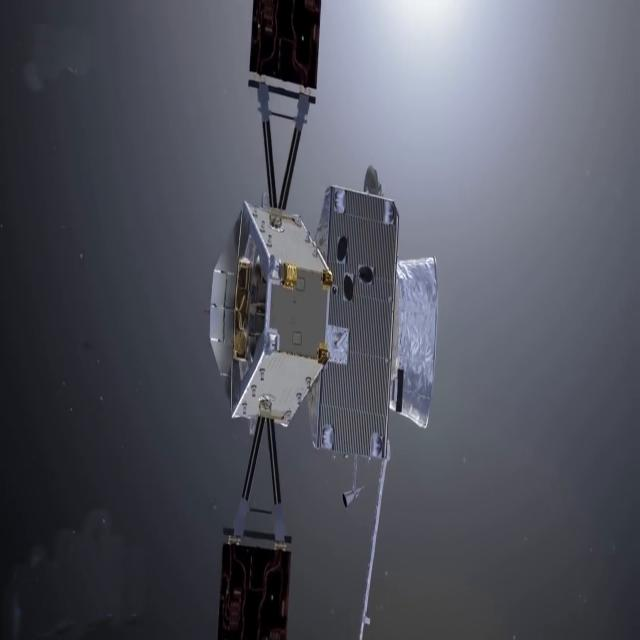satellite: (205, 0, 444, 640)
